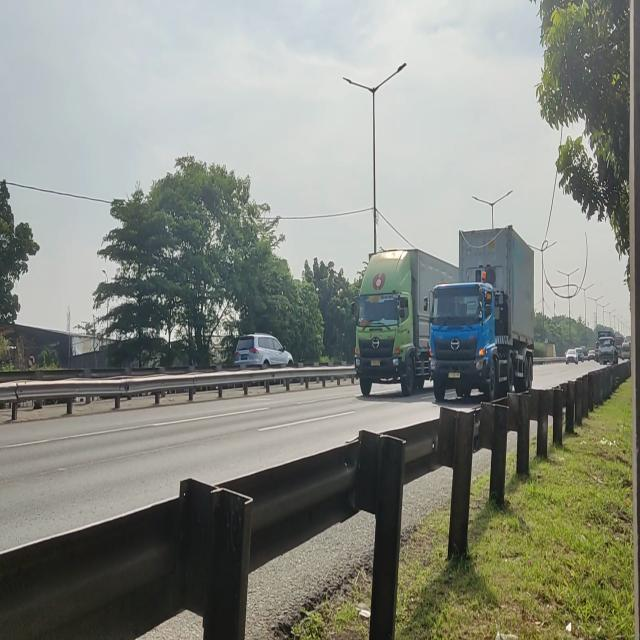Golongan IV: (427, 241, 536, 408)
